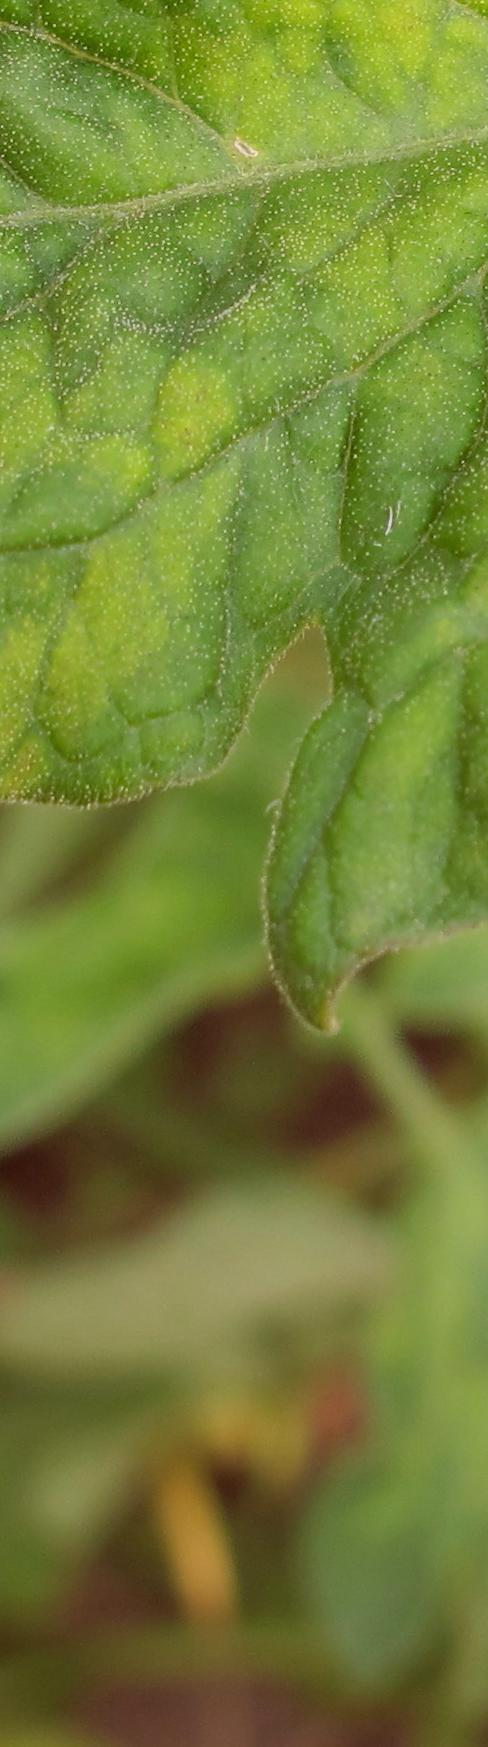Tomato leaf mosaic virus: (0, 0, 488, 1115)
